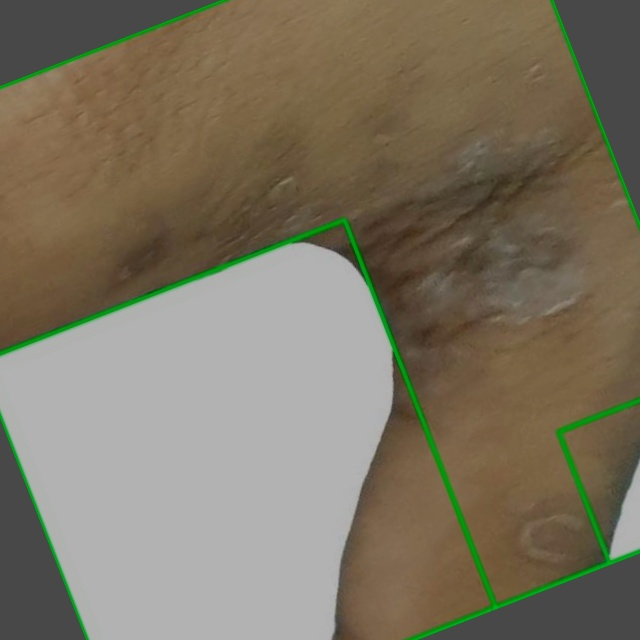Scabies: (0, 0, 639, 639), (0, 219, 495, 639)
